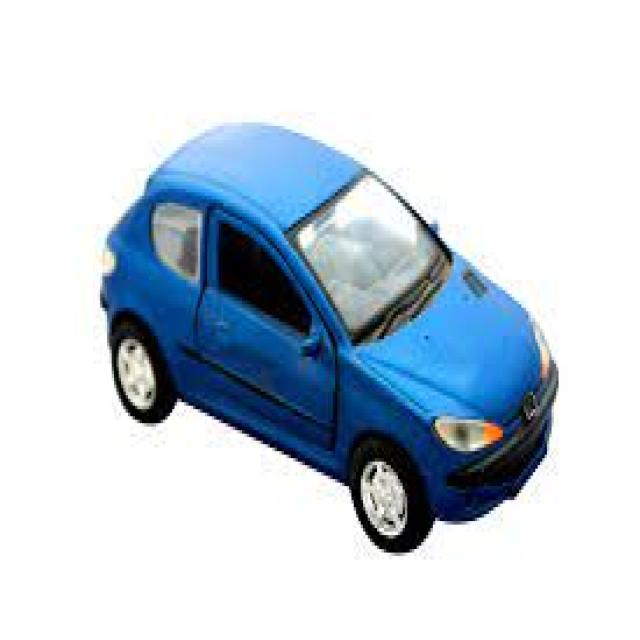Car: (97, 115, 558, 552)
